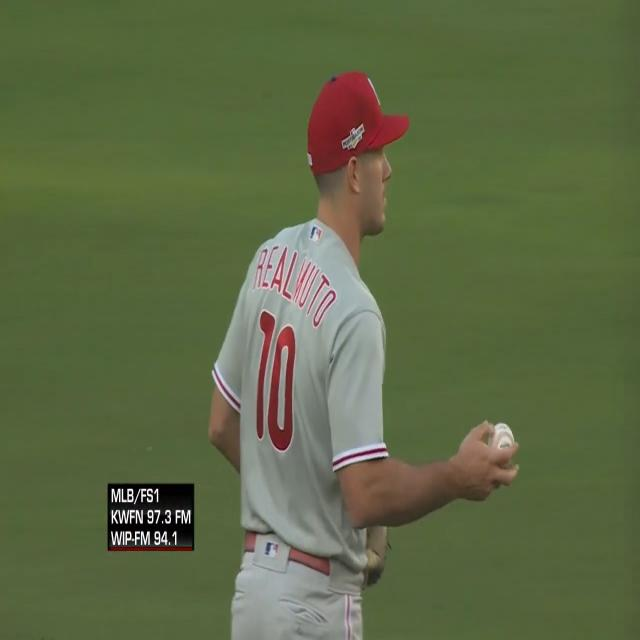baseball: (488, 419, 515, 468)
